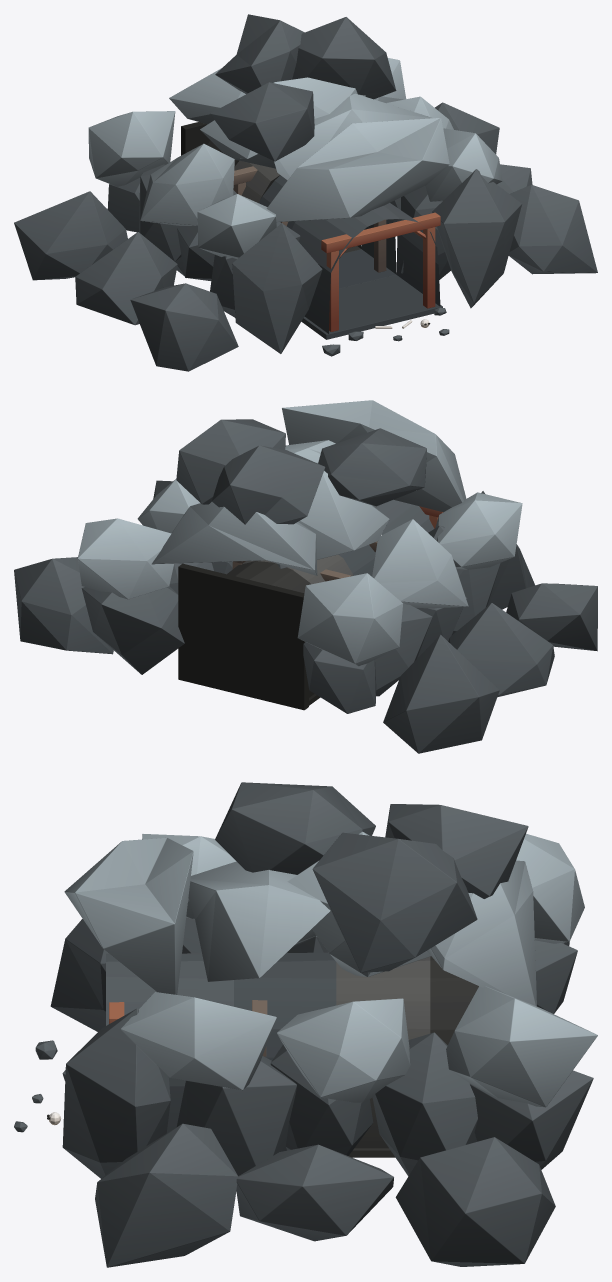
The model's file is cave_entrance.glb.
3 views of the same model, one above another, from view 1: azimuth 30°, elevation 25°; view 2: azimuth 150°, elevation 25°; view 3: azimuth 270°, elevation 25° (orthographic). The views are drawn at different scales.
Parts seen in each view (by area): view 1: cave_entrance; view 2: cave_entrance; view 3: cave_entrance.
Part boxes in pixels (x1,y1,x2,y2): cave_entrance: (14,14,597,371); cave_entrance: (14,400,597,753); cave_entrance: (14,782,597,1267).
Size of the model in its own units: 18.44 by 8.78 by 13.68.
Materials: 1 (1 with a texture image).
